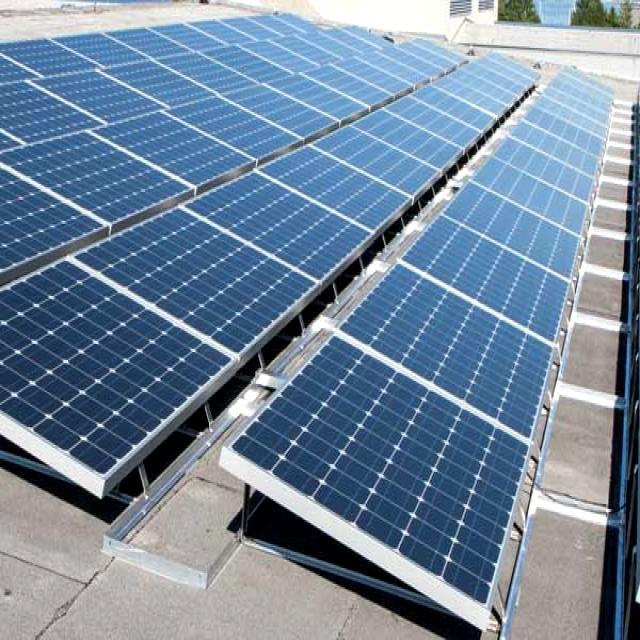crack: (246, 328, 552, 604), (326, 239, 588, 488), (42, 195, 330, 375), (404, 204, 602, 375), (188, 154, 380, 306), (427, 152, 593, 300), (260, 120, 415, 262), (307, 109, 452, 230), (354, 88, 484, 200)
